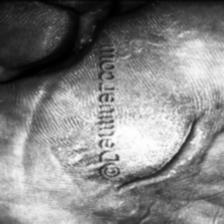Toxin: (66, 102, 210, 188)
